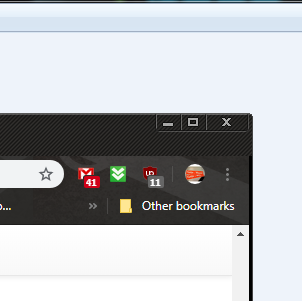close: (205, 112, 249, 132)
